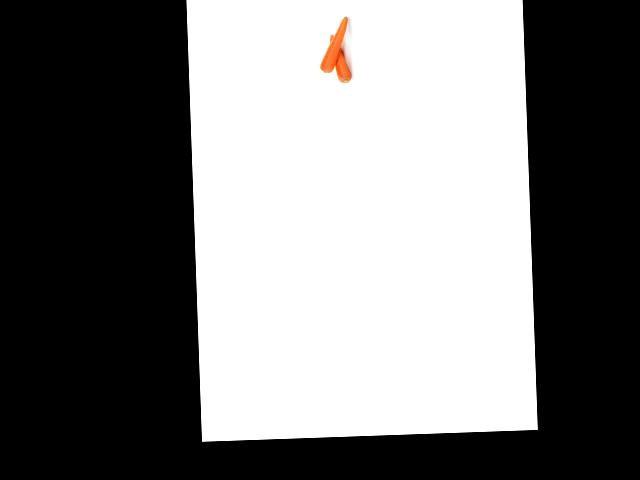carrot: (329, 30, 351, 88)
